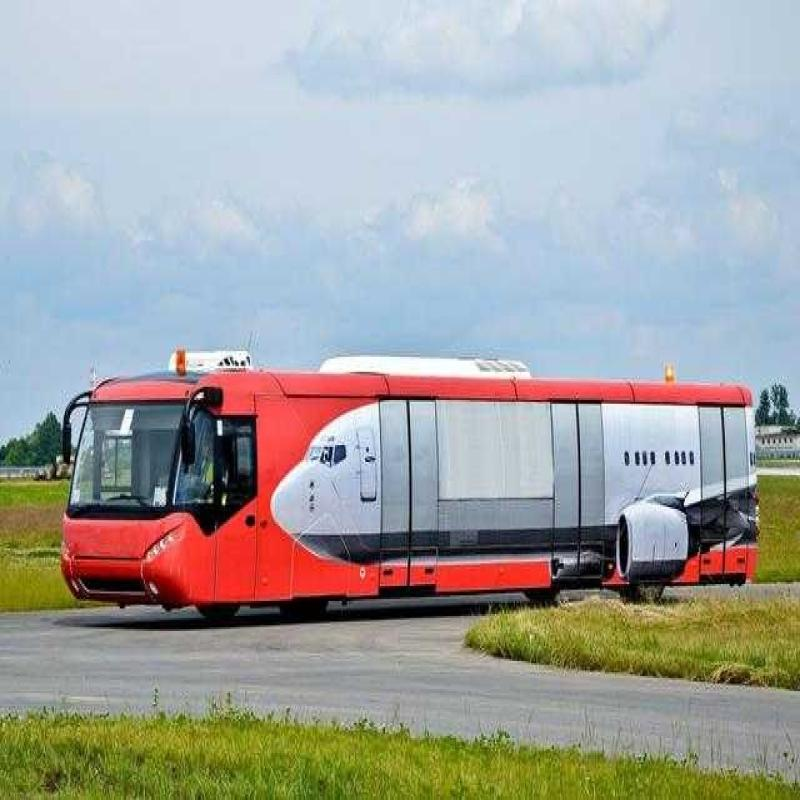bus: (49, 331, 771, 657)
